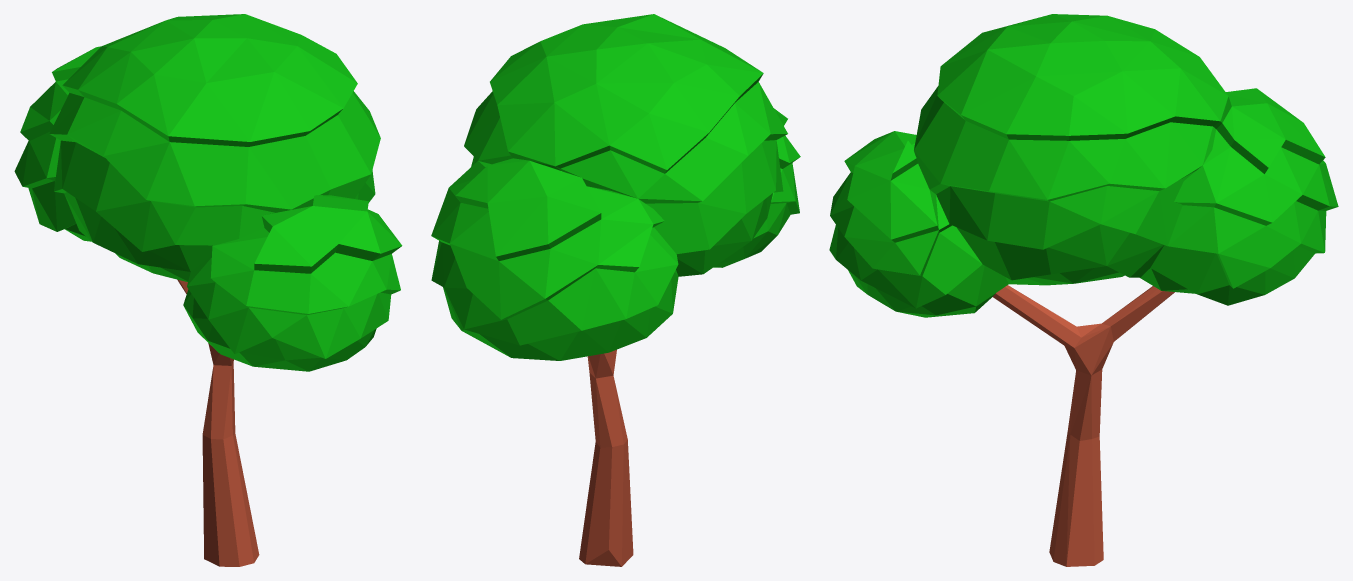
Rendered from tree_A_01.fbx.
3 renders of one model, left to right at view 1: azimuth 30°, elevation 25°; view 2: azimuth 150°, elevation 25°; view 3: azimuth 270°, elevation 25°, orthographic. The views are drawn at different scales.
Parts seen in each view (by area): view 1: tree_A_01; view 2: tree_A_01; view 3: tree_A_01.
Boxes of the visible parts, x1=… form: tree_A_01: x1=14, y1=14, x2=402, y2=566; tree_A_01: x1=431, y1=14, x2=800, y2=566; tree_A_01: x1=829, y1=14, x2=1338, y2=566.
Bounding box in the file's own units: 130 × 236 × 210.
